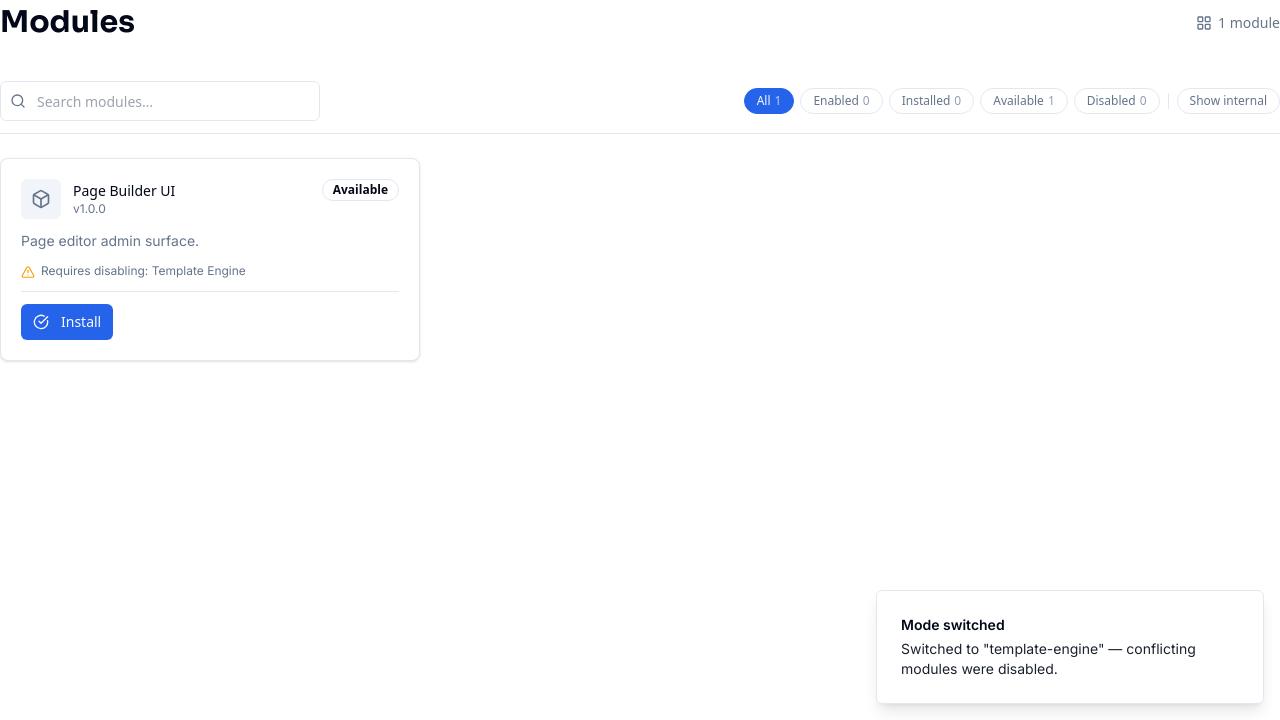
Test: ModulesPage — switch dialog › opens switch dialog symmetric: enabling page-builder-ui when template-engine is ENABLED
Expected: the button "Installed0" is shown, [889, 88, 974, 114]
Click the button "Install". click: (67, 322)
box: [21, 304, 113, 340]
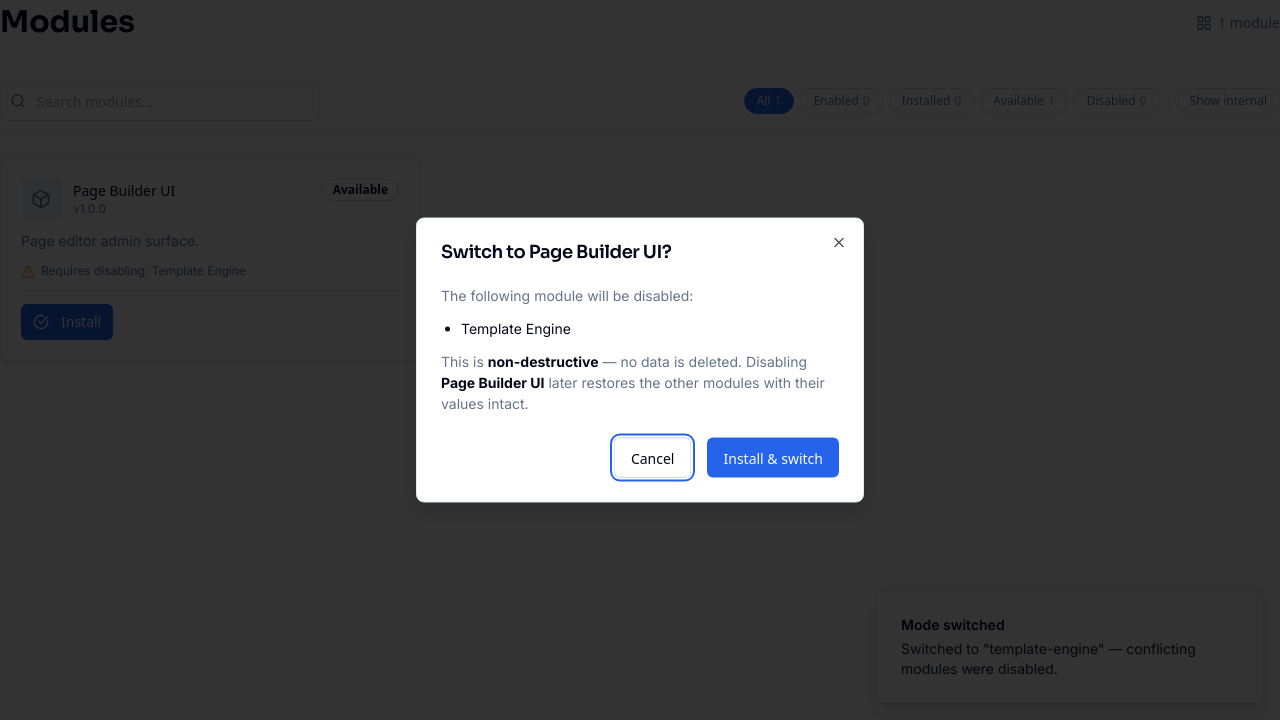
Expected: the dialog is shown, [416, 218, 864, 502]
Expected: the button "Install & switch" is shown, [708, 438, 839, 478]
